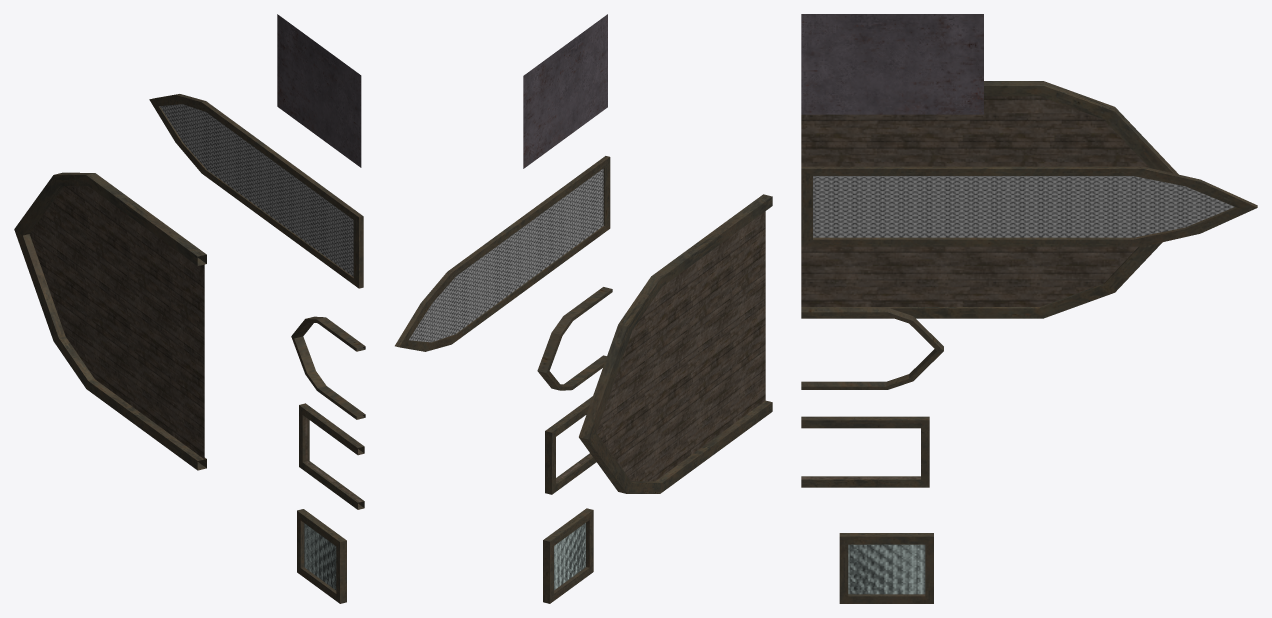
Rendered from DoorsAndWindows.fbx.
3 views of the same model, side by side, from view 1: azimuth 30°, elevation 25°; view 2: azimuth 150°, elevation 25°; view 3: azimuth 270°, elevation 25° (orthographic). The views are drawn at different scales.
Visible parts, largest first — view 1: GreatDoor, TallWindow, Gate_Bars, Window, Doorframe, NobleDoorFrame; view 2: GreatDoor, TallWindow, Gate_Bars, Window, NobleDoorFrame, Doorframe; view 3: GreatDoor, TallWindow, Gate_Bars, Window, Doorframe, NobleDoorFrame.
Part boxes in pixels (x1,y1,x2,y2): GreatDoor: [14, 172, 206, 470]; TallWindow: [149, 94, 363, 288]; Gate_Bars: [277, 14, 361, 167]; Window: [297, 509, 346, 603]; Doorframe: [299, 403, 364, 509]; NobleDoorFrame: [291, 316, 365, 419]; GreatDoor: [579, 194, 772, 493]; TallWindow: [395, 156, 610, 351]; Gate_Bars: [523, 14, 607, 168]; Window: [543, 508, 593, 603]; NobleDoorFrame: [537, 287, 612, 390]; Doorframe: [545, 396, 596, 494]; GreatDoor: [801, 81, 1178, 318]; TallWindow: [801, 166, 1257, 246]; Gate_Bars: [801, 14, 983, 114]; Window: [839, 533, 933, 603]; Doorframe: [801, 416, 929, 487]; NobleDoorFrame: [801, 307, 943, 389].
Size of the model in its own units: 370 by 1138 by 800.
